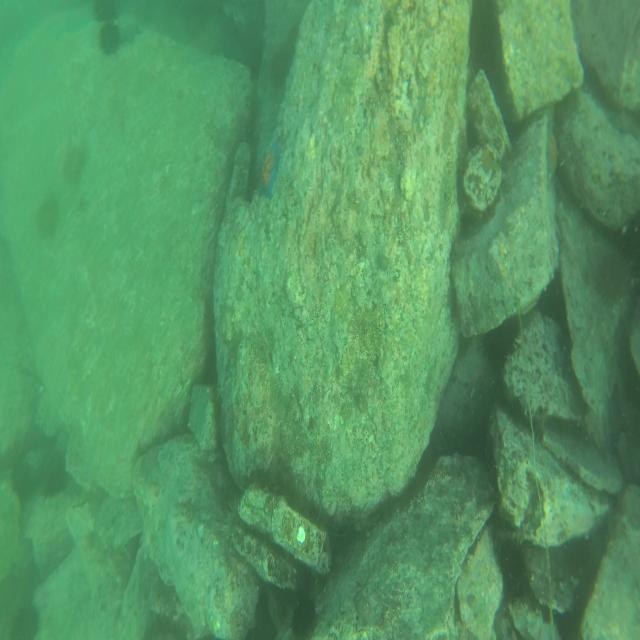echinus: (593, 241, 631, 308), (496, 532, 530, 595), (477, 319, 511, 373), (287, 592, 321, 634), (221, 503, 251, 546), (61, 141, 86, 180), (12, 604, 40, 638), (37, 200, 60, 237), (96, 26, 122, 50), (91, 1, 117, 23)
starfish: (260, 140, 284, 203), (547, 117, 562, 191)
